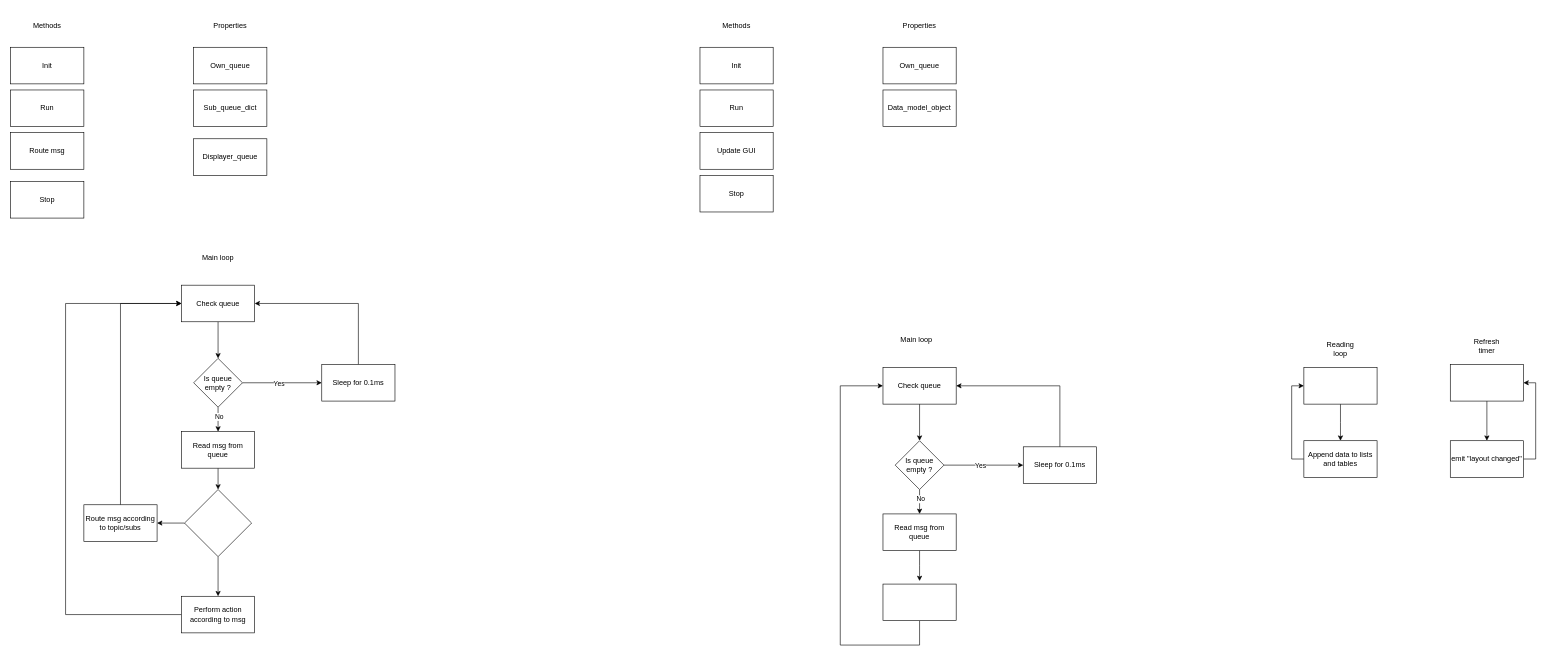
This 1551x661 diagram has some shape labels left out. The shapes that lost their labels are listed below. From the top down, each one's centre as x and y in pixels, then its label:
At point (1340, 385): "Wait for msg (blocking)".
At point (1486, 382): "Wait 0.03".
At point (218, 523): "Check type of msg".
At point (919, 602): "Display data regarding to pub/sub list".
